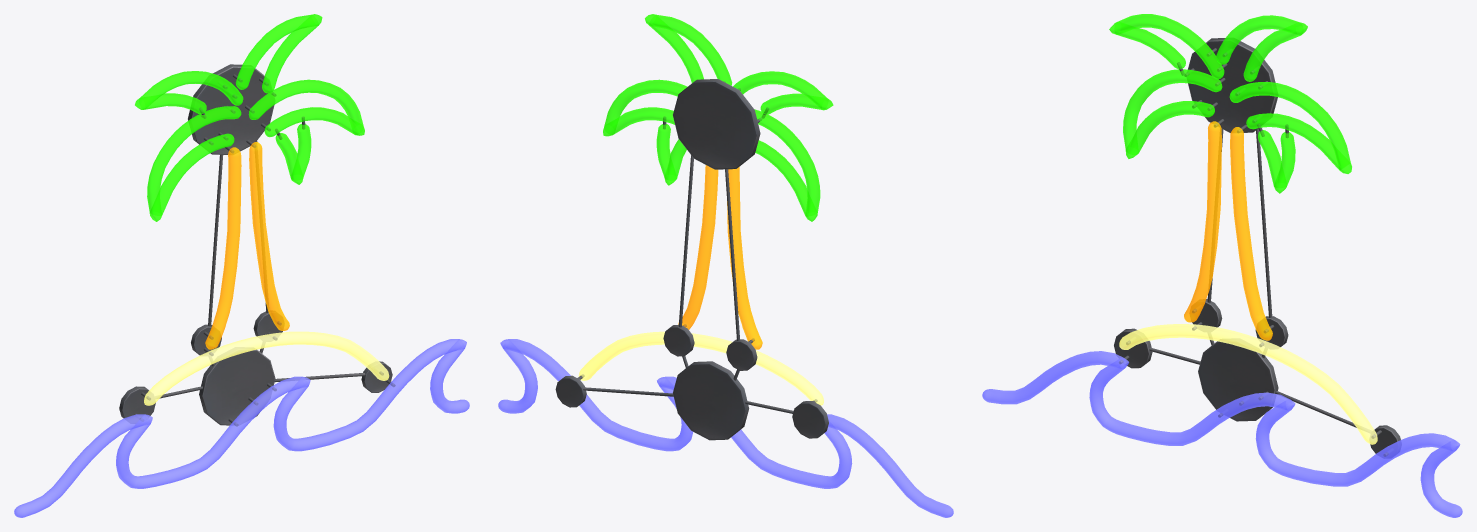
Rendered from neon_palm.glb.
3 renders of one model, left to right at view 1: azimuth 30°, elevation 25°; view 2: azimuth 150°, elevation 25°; view 3: azimuth 330°, elevation 25°, orthographic. The views are drawn at different scales.
Parts seen in each view (by area): view 1: Object_3, Object_2, Object_4; view 2: Object_3, Object_2, Object_4; view 3: Object_3, Object_2, Object_4.
Part boxes in pixels (x1,y1,x2,y2): Object_3: [14, 14, 469, 517]; Object_2: [119, 64, 395, 426]; Object_4: [144, 331, 389, 405]; Object_3: [498, 14, 953, 517]; Object_2: [555, 79, 828, 440]; Object_4: [578, 331, 823, 405]; Object_3: [982, 14, 1462, 517]; Object_2: [1114, 38, 1400, 456]; Object_4: [1119, 324, 1377, 444].
Size of the model in its own units: 0.8743 by 0.8 by 0.0492.
3 materials, 3 textured.
